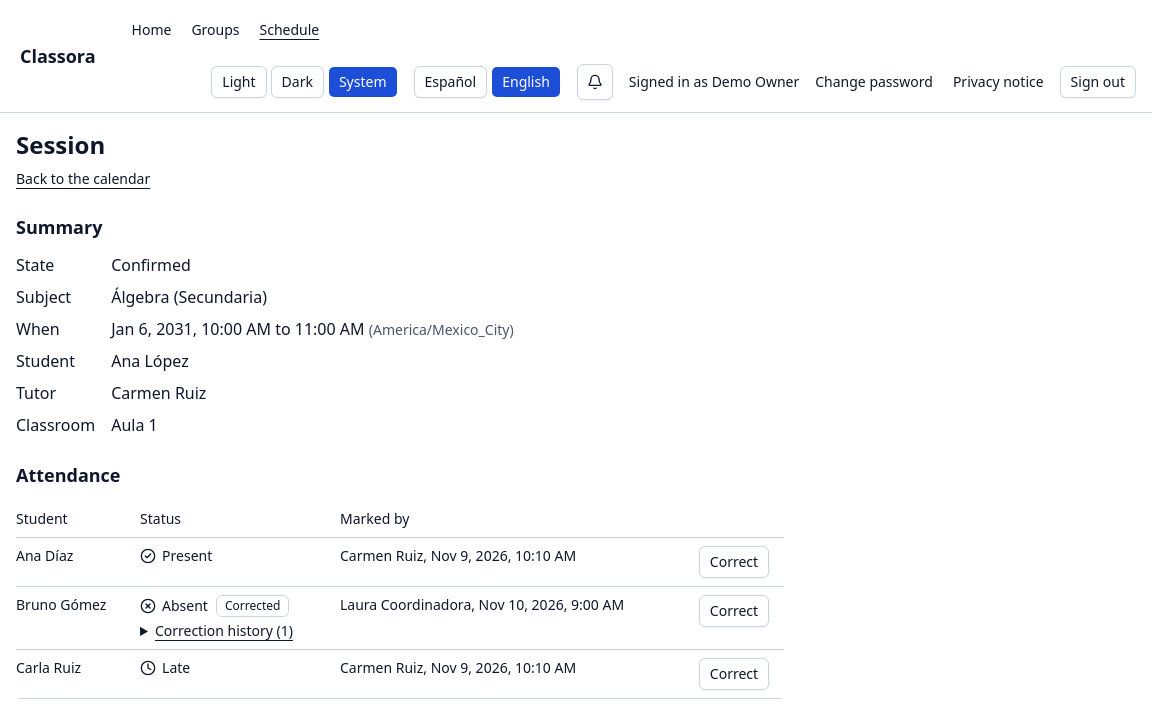
Scenario: the correction dialog (G3) › disables the current status and requires a reason
Step 1. Click the button "Correct" in the row of "Ana Díaz" → {"x": 734, "y": 562}, box top-left (699, 546), bottom-right (769, 578)
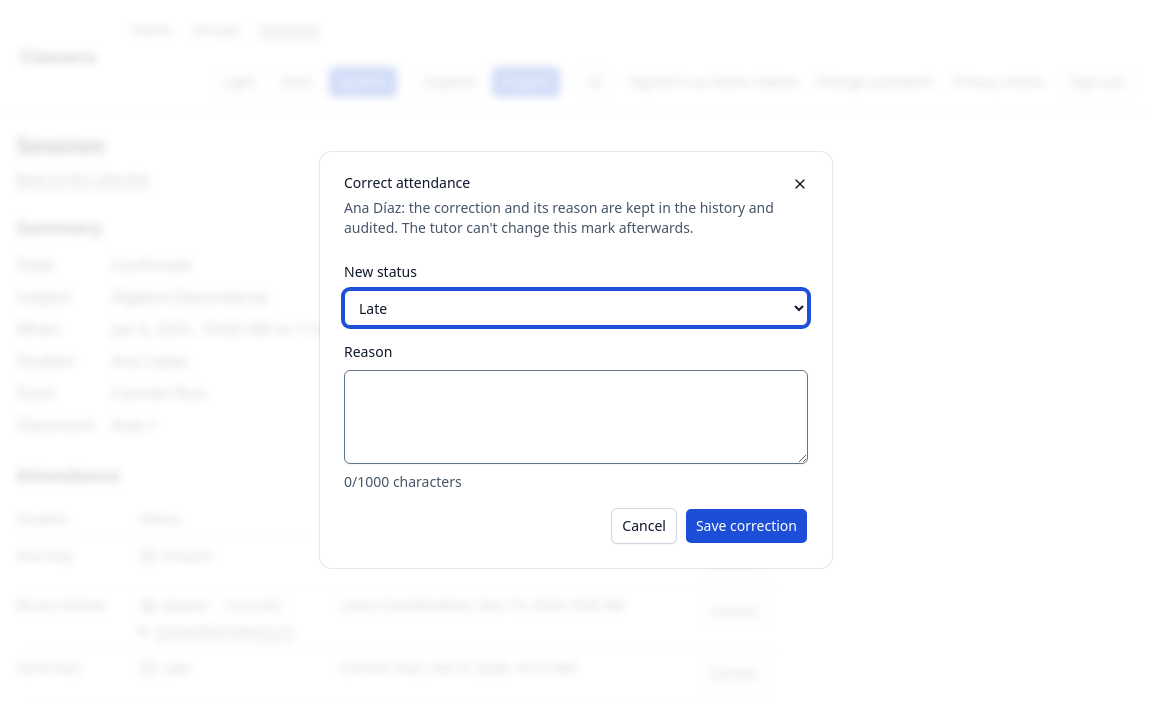
Now the dialog is shown, box top-left (320, 152), bottom-right (832, 568)
Now the dropdown labelled "New status" shows "Late", box top-left (344, 290), bottom-right (808, 326)
Step 2. Click the button "Save correction" → {"x": 746, "y": 526}, box top-left (685, 508), bottom-right (808, 544)
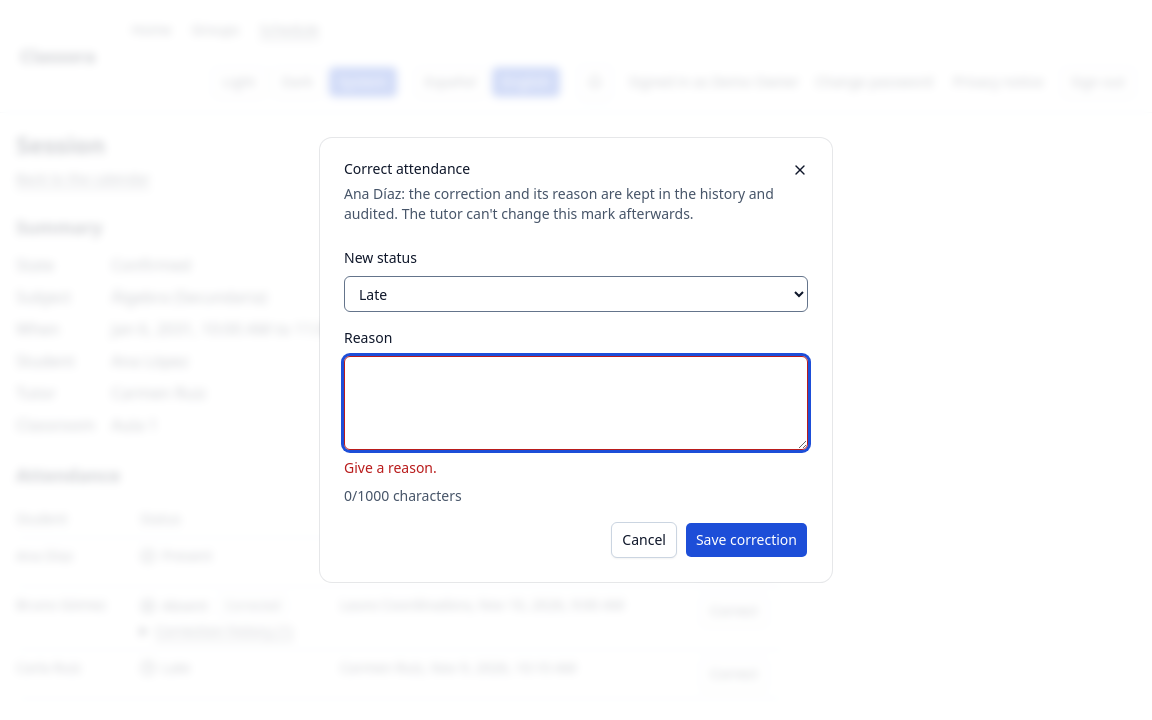
Now the dialog shows "0/1000 characters", box top-left (344, 486), bottom-right (462, 505)
Now the dialog shows "Give a reason.", box top-left (344, 458), bottom-right (437, 477)
